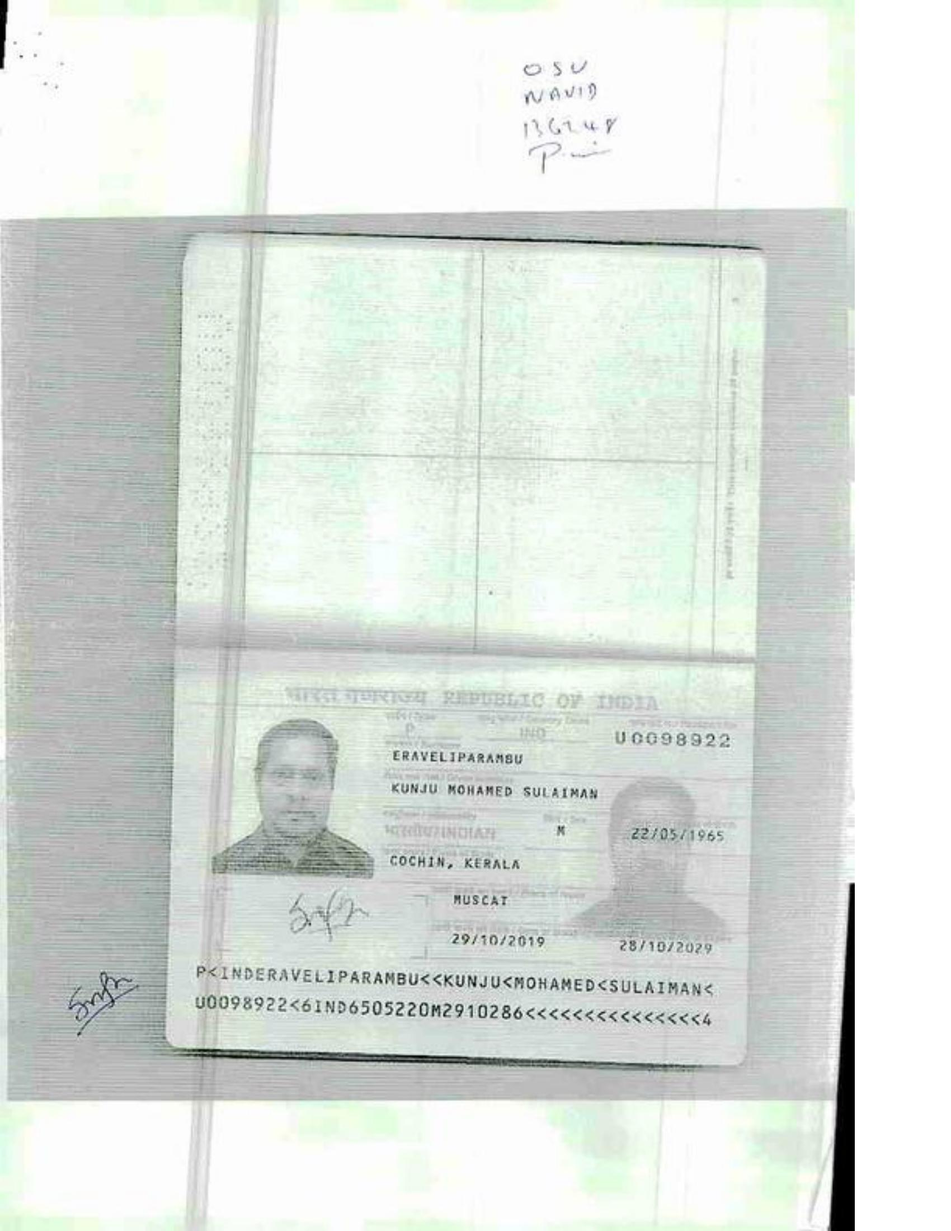DOB: (621, 821, 729, 849)
Surname: (387, 742, 531, 772)
country_code: (513, 722, 554, 749)
date_of_expiry: (606, 933, 722, 960)
date_of_issue: (435, 927, 554, 959)
details: (182, 961, 730, 1035)
name: (380, 779, 595, 810)
nationality: (375, 817, 511, 843)
passport_no: (604, 725, 739, 753)
photo: (214, 712, 372, 874)
place_of_birth: (385, 851, 529, 880)
place_of_issue: (443, 888, 514, 919)
sex: (543, 819, 580, 847)
sign: (280, 885, 371, 948)
type: (392, 718, 427, 740)
